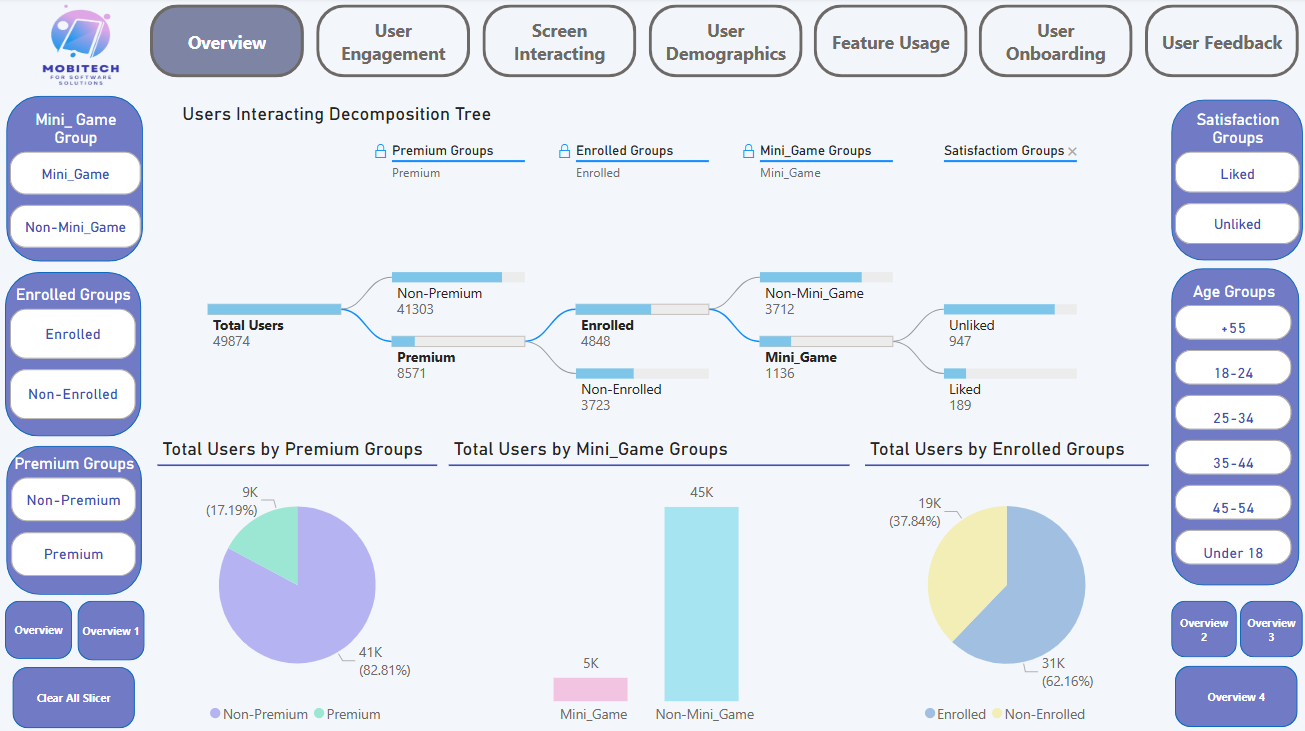

The page's visual inventory and layout, read from the dashboard file:
{"tool":"powerbi","page":{"name":"Overview","canvas":[1280,720],"ordinal":3},"visuals":[{"type":"group","id":"g1","title":"Group 4","box":[4.4,96.9,138.6,162.2],"z":0,"group":"g7"},{"type":"shape","box":[6.1,96.9,133.8,162.2],"z":0,"group":"g1"},{"type":"group","id":"g2","title":"Group 3","box":[1144,100.7,132.8,157.6],"z":0,"group":"g8"},{"type":"shape","box":[1144.8,100.7,128.8,157.6],"z":0,"group":"g2"},{"type":"gauge","fields":{"Y":["Total.Satisfaction Rate"]},"box":[151.4,220.7,485.6,195.5],"z":0,"group":"g9"},{"type":"shape","box":[1145.7,265.6,125.2,310.3],"z":0,"group":"g6"},{"type":"group","id":"g3","title":"Group 2","box":[4.4,269.5,133.3,160.9],"z":0,"group":"g5"},{"type":"shape","box":[4.4,269.5,133.3,160.9],"z":0,"group":"g3"},{"type":"shape","box":[5.8,438.8,132.7,145.9],"z":0,"group":"g4"},{"type":"columnChart","fields":{"Category":["appdata10.Mini_Game Group","appdata10.Satisfaction Groups"],"Y":["Total.Total Users"]},"box":[450,454.6,392.5,265.4],"z":0},{"type":"advancedSlicerVisual","fields":{"Values":["appdata10.Satisfaction Groups"]},"box":[1144,111.7,132.8,135.9],"z":1000,"group":"g2"},{"type":"advancedSlicerVisual","title":"  Mini_ Game Group","fields":{"Values":["appdata10.Mini_Game Group"]},"box":[4.4,112.1,138.6,140.3],"z":1000,"group":"g1"},{"type":"advancedSlicerVisual","fields":{"Values":["appdata10.Age Groups"]},"box":[1144,278.8,125,285.8],"z":1000,"group":"g6"},{"type":"advancedSlicerVisual","fields":{"Values":["appdata10.Enrolled Groups"]},"box":[4.4,282.8,133.3,136.7],"z":1000,"group":"g3"},{"type":"card","fields":{"Values":["Total.Satisfaction Rate"]},"box":[312.7,326.3,154,72.8],"z":1000,"group":"g9"},{"type":"advancedSlicerVisual","fields":{"Values":["appdata10.Premium Groups"]},"box":[5.8,447.9,132.8,123.8],"z":1000,"group":"g4"},{"type":"pieChart","fields":{"Category":["appdata10.Enrolled Groups"],"Y":["Total.Total Users"]},"box":[846.2,456.1,291,264.1],"z":1000},{"type":"pieChart","fields":{"Category":["appdata10.Premium Groups"],"Y":["Total.Total Users"]},"box":[154.1,456.1,292.3,264.1],"z":2000},{"type":"group","id":"g4","title":"Group 1","box":[5.8,438.8,132.8,145.9],"z":3000},{"type":"group","id":"g5","title":"Group 1","box":[4.4,269.5,132.8,160.5],"z":4000},{"type":"group","id":"g6","title":"Group 1","box":[1144,265.6,128.4,310.8],"z":5000},{"type":"group","id":"g7","title":"Group 2","box":[4.4,96.9,138.6,162],"z":6000},{"type":"group","id":"g8","title":"Group 2","box":[1144,100.7,132.8,157.6],"z":7000},{"type":"shape","box":[75.9,591,65.7,58.4],"z":8000},{"type":"cardVisual","fields":{"Data":["Total.Total Users"]},"box":[144.3,84.4,249.5,130.8],"z":11000},{"type":"cardVisual","fields":{"Data":["Total.Total Screen_Viewed"]},"box":[393.8,84.4,250.7,130.8],"z":12000},{"type":"cardVisual","fields":{"Data":["Total.Total Screen_Interacted"]},"box":[644.4,84.4,249.5,130.8],"z":13000},{"type":"cardVisual","fields":{"Data":["Total.Total Users Premium Feature"]},"box":[892.7,84.4,249.5,130.8],"z":14000},{"type":"group","id":"g9","title":"Group 6","box":[151.4,220.7,485.6,195.5],"z":15000},{"type":"funnel","fields":{"Y":["Total.Total Users_First open","Total.Total Users_Enrolled"]},"box":[649.3,228.7,490.4,178.5],"z":16000},{"type":"actionButton","box":[634.1,7.9,150.6,71.3],"z":18000},{"type":"actionButton","box":[309.1,7.9,150.6,71.3],"z":19000},{"type":"actionButton","box":[471.6,7.9,150.6,71.3],"z":20000},{"type":"actionButton","box":[146.6,7.9,150.6,71.3],"z":21000},{"type":"actionButton","box":[796.5,7.9,150.6,71.3],"z":22000},{"type":"actionButton","box":[957.7,7.9,150.6,71.3],"z":23000},{"type":"actionButton","box":[1120.2,7.9,150.6,71.3],"z":24000},{"type":"image","box":[28.1,0,101.5,96.6],"z":25000},{"type":"shape","box":[11.7,655.2,119.7,59.8],"z":26000},{"type":"shape","box":[1145.5,591,64.2,55.4],"z":27000},{"type":"shape","box":[4.4,591,65.7,56.9],"z":28000},{"type":"shape","box":[1212.6,591,61.3,55.4],"z":31000},{"type":"shape","box":[1149.5,654.2,119.8,59.9],"z":32000}]}

Visuals, with their boxes in screenshot pixels (x1, y1, x2, y2), scaled from the page's 1280x720 canvas onto the 1305x731 screenshot:
"Group 4" group: <box>4,98,146,263</box>
shape: <box>6,98,143,263</box>
"Group 3" group: <box>1166,102,1302,262</box>
shape: <box>1167,102,1298,262</box>
gauge - Total.Satisfaction Rate: <box>154,224,649,423</box>
shape: <box>1168,270,1296,585</box>
"Group 2" group: <box>4,274,140,437</box>
shape: <box>4,274,140,437</box>
shape: <box>6,446,141,594</box>
columnChart - appdata10.Mini_Game Group x appdata10.Satisfaction Groups: <box>459,462,859,730</box>
advancedSlicerVisual - appdata10.Satisfaction Groups: <box>1166,113,1302,251</box>
"  Mini_ Game Group" advancedSlicerVisual: <box>4,114,146,256</box>
advancedSlicerVisual - appdata10.Age Groups: <box>1166,283,1294,573</box>
advancedSlicerVisual - appdata10.Enrolled Groups: <box>4,287,140,426</box>
card - Total.Satisfaction Rate: <box>319,331,476,405</box>
advancedSlicerVisual - appdata10.Premium Groups: <box>6,455,141,580</box>
pieChart - appdata10.Enrolled Groups x Total.Total Users: <box>863,463,1159,730</box>
pieChart - appdata10.Premium Groups x Total.Total Users: <box>157,463,455,730</box>
"Group 1" group: <box>6,446,141,594</box>
"Group 1" group: <box>4,274,140,437</box>
"Group 1" group: <box>1166,270,1297,585</box>
"Group 2" group: <box>4,98,146,263</box>
"Group 2" group: <box>1166,102,1302,262</box>
shape: <box>77,600,144,659</box>
cardVisual - Total.Total Users: <box>147,86,401,218</box>
cardVisual - Total.Total Screen_Viewed: <box>401,86,657,218</box>
cardVisual - Total.Total Screen_Interacted: <box>657,86,911,218</box>
cardVisual - Total.Total Users Premium Feature: <box>910,86,1165,218</box>
"Group 6" group: <box>154,224,649,423</box>
funnel - Total.Total Users_First open x Total.Total Users_Enrolled: <box>662,232,1162,413</box>
actionButton: <box>646,8,800,80</box>
actionButton: <box>315,8,469,80</box>
actionButton: <box>481,8,634,80</box>
actionButton: <box>149,8,303,80</box>
actionButton: <box>812,8,966,80</box>
actionButton: <box>976,8,1130,80</box>
actionButton: <box>1142,8,1296,80</box>
image: <box>29,0,132,98</box>
shape: <box>12,665,134,726</box>
shape: <box>1168,600,1233,656</box>
shape: <box>4,600,71,658</box>
shape: <box>1236,600,1299,656</box>
shape: <box>1172,664,1294,725</box>
